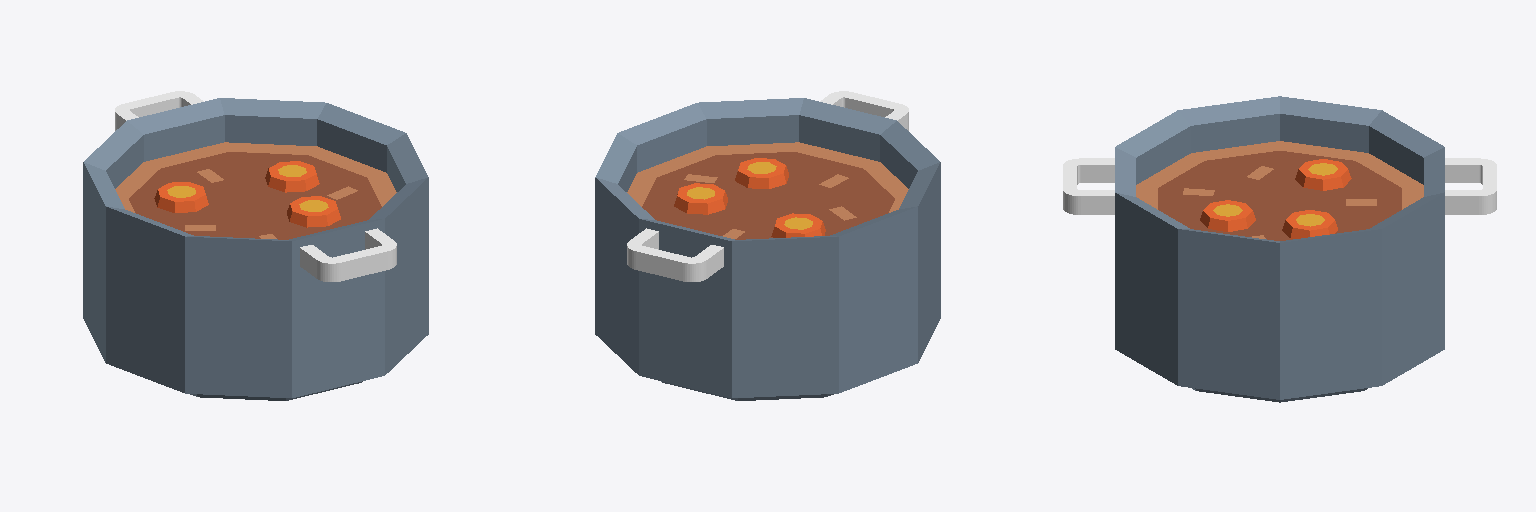
Rendered from potStew.obj.
The picture shows the model from 3 angles: view 1: azimuth 30°, elevation 25°; view 2: azimuth 150°, elevation 25°; view 3: azimuth 270°, elevation 25°; orthographic projection.
Visible parts, largest first — view 1: potStew; view 2: potStew; view 3: potStew.
Part boxes in pixels (left/top/right/bottom): potStew: left=83, top=91, right=428, bottom=400; potStew: left=595, top=91, right=940, bottom=400; potStew: left=1063, top=96, right=1496, bottom=402.
Bounding box in the file's own units: 0.6574 × 0.3608 × 0.8221.